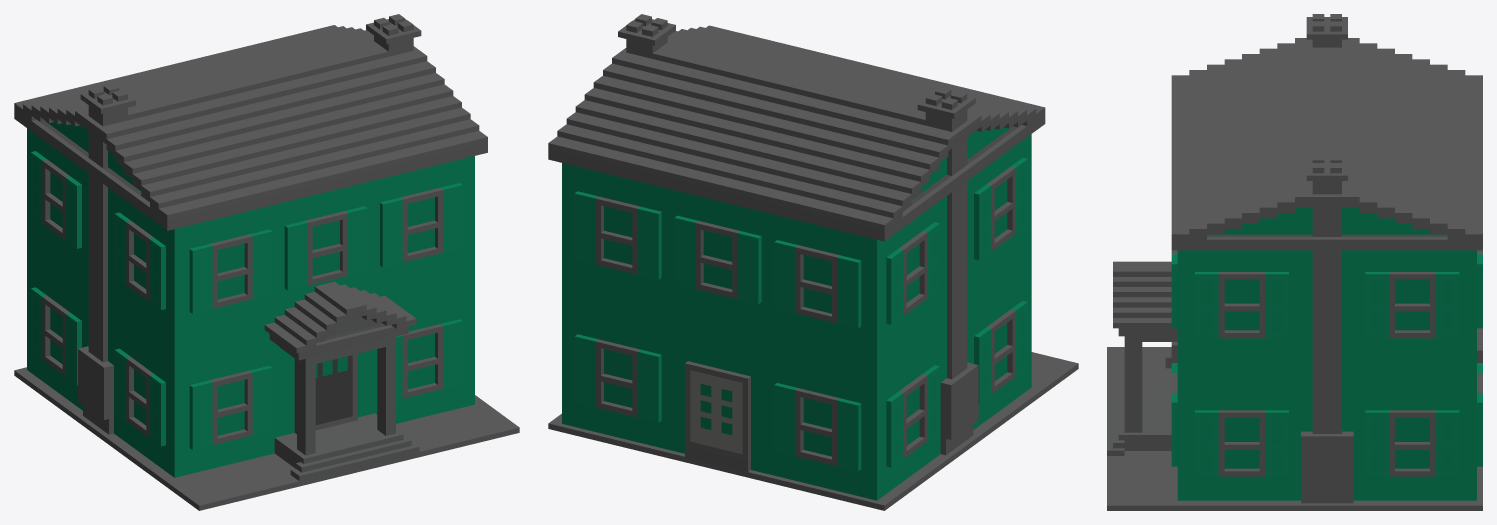
The model's file is bld_house4b.obj.
3 views of the same model, side by side, from view 1: azimuth 30°, elevation 25°; view 2: azimuth 150°, elevation 25°; view 3: azimuth 270°, elevation 25° (orthographic). The views are drawn at different scales.
Bounding box in the file's own units: 64 × 64 × 64.
